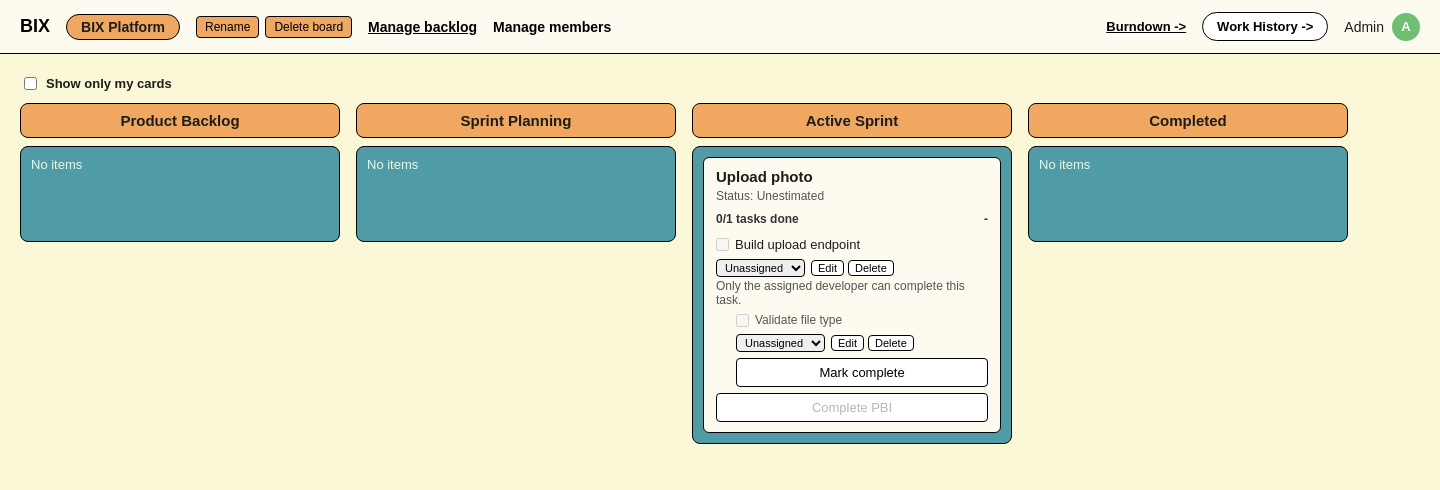
Test: Board page - delete the board (US-04c) › still renames the board
The width and height of the screenshot is (1440, 490).
Expected: the text "BIX Platform" is shown, [66,14,180,40]
Click the button "Rename": click(228, 26) [196,16,259,38]
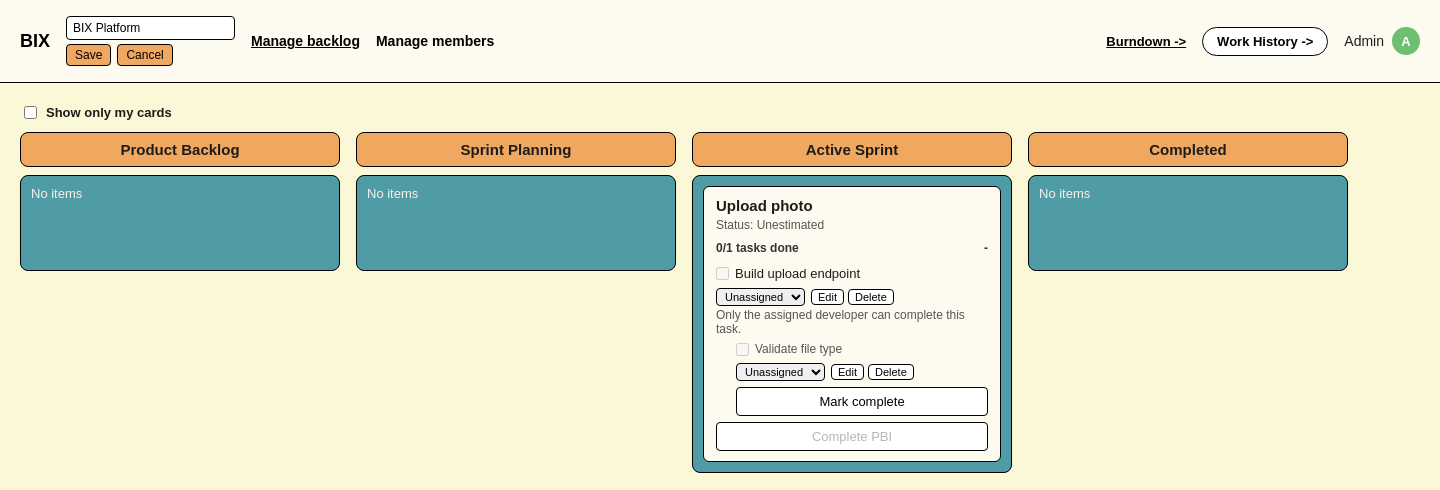
Replace the text in the field named "Project name" with "BIX Platform v2": (150, 28) [66,16,235,40]
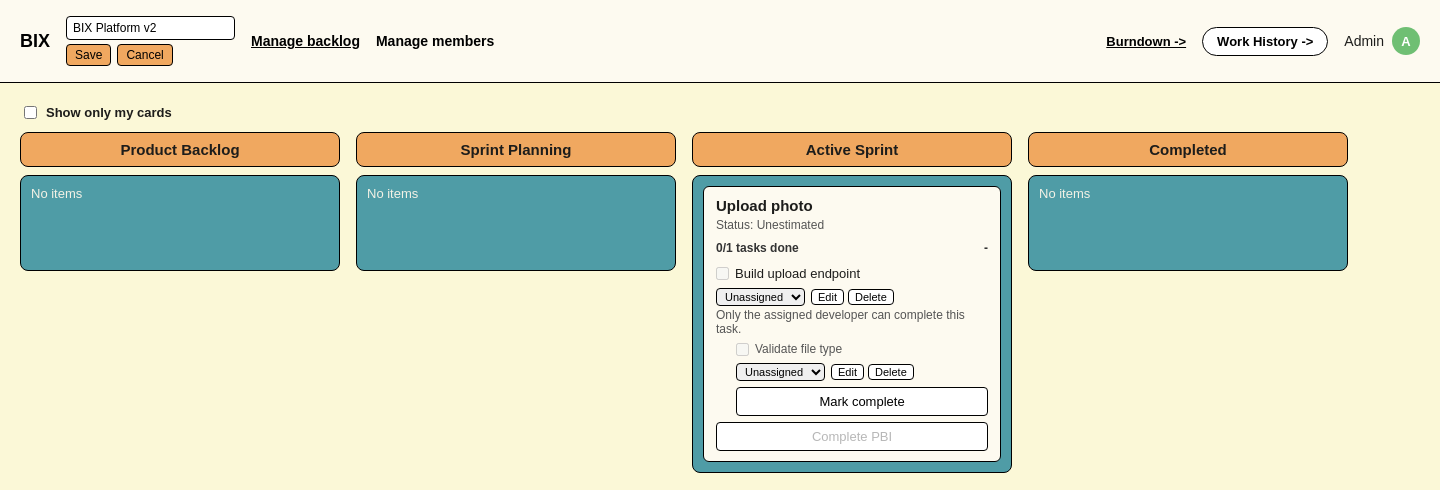
Click the button "Save": click(89, 55) [66,44,111,66]
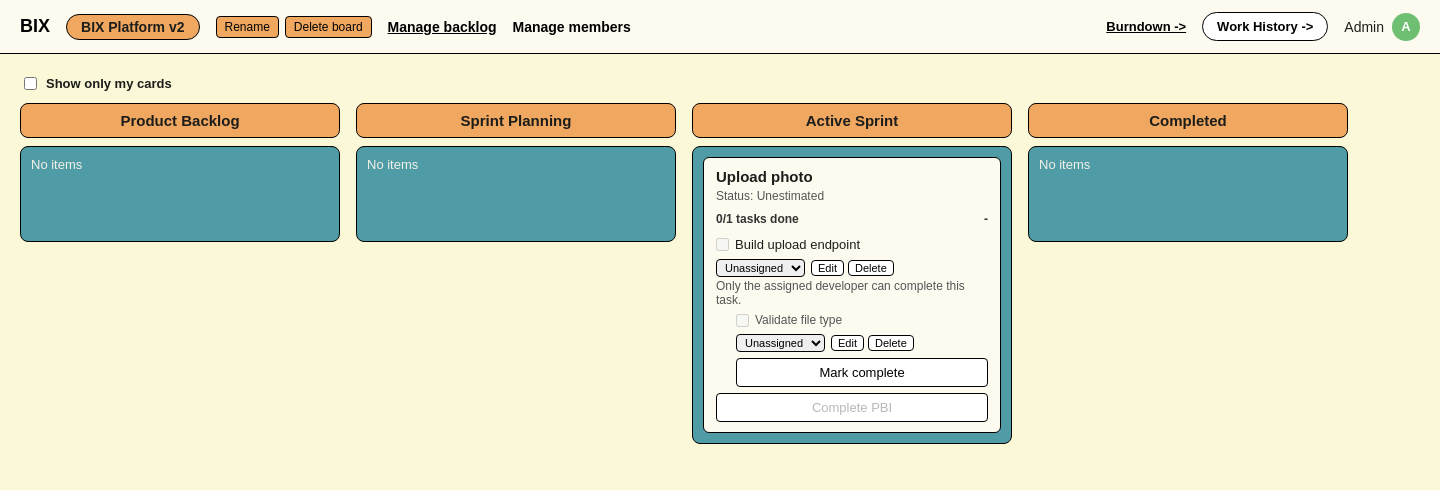
Now the text "BIX Platform v2" is shown, box [66,14,200,40]
